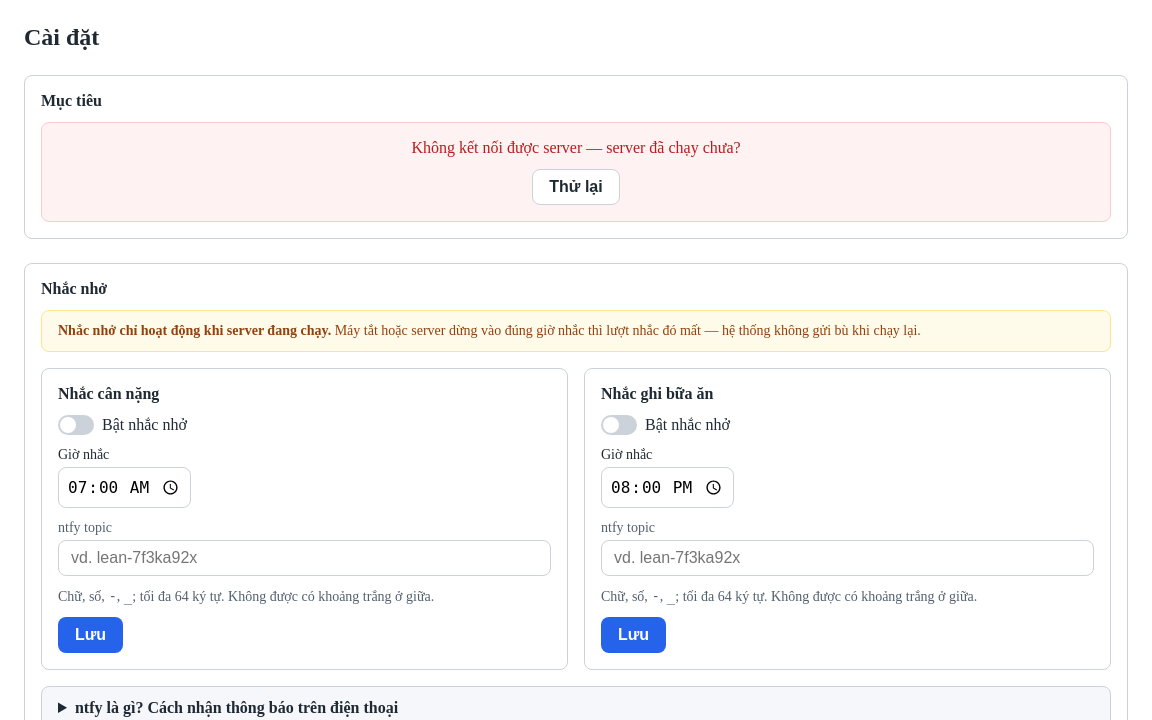
Test: SettingsPage — lỗi mạng cấp trang (Bước 7) › nút Thử lại gọi lại đúng hàm nạp bị hỏng
Click the button "Thử lại" at point(576, 187), box [532,169,620,205]
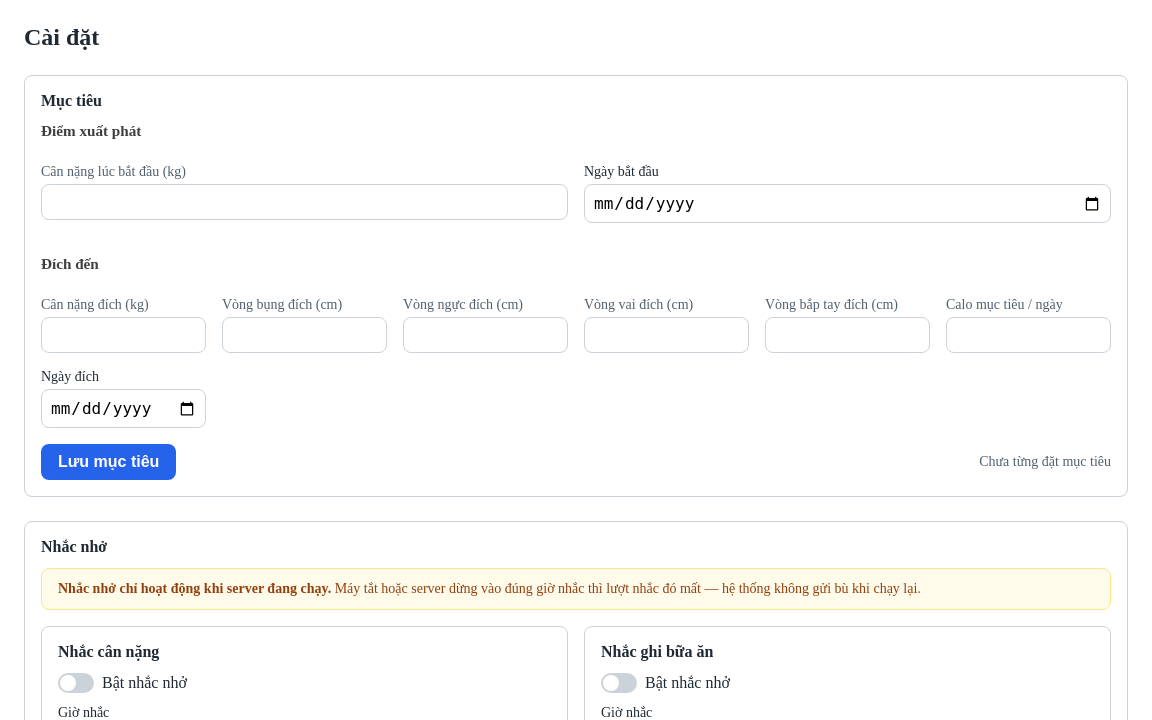
Result: the number field labelled "Cân nặng đích (kg)" is shown at [41,317,206,353]
